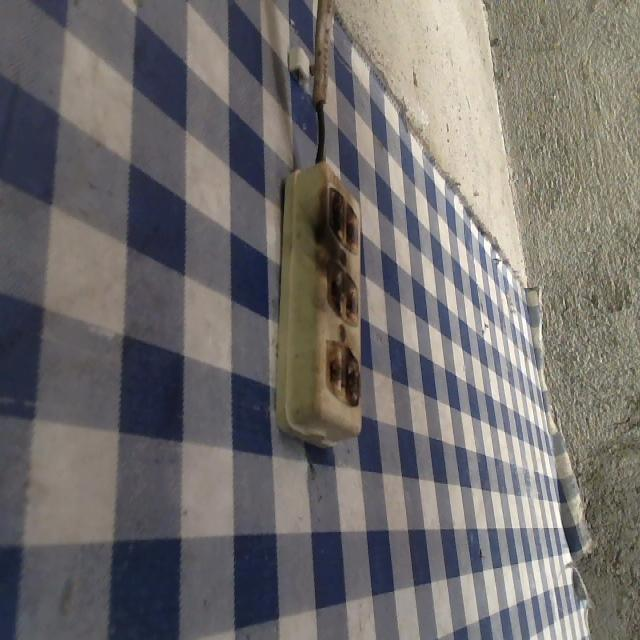-: (323, 183, 360, 256), (324, 339, 361, 404), (325, 261, 361, 327)
